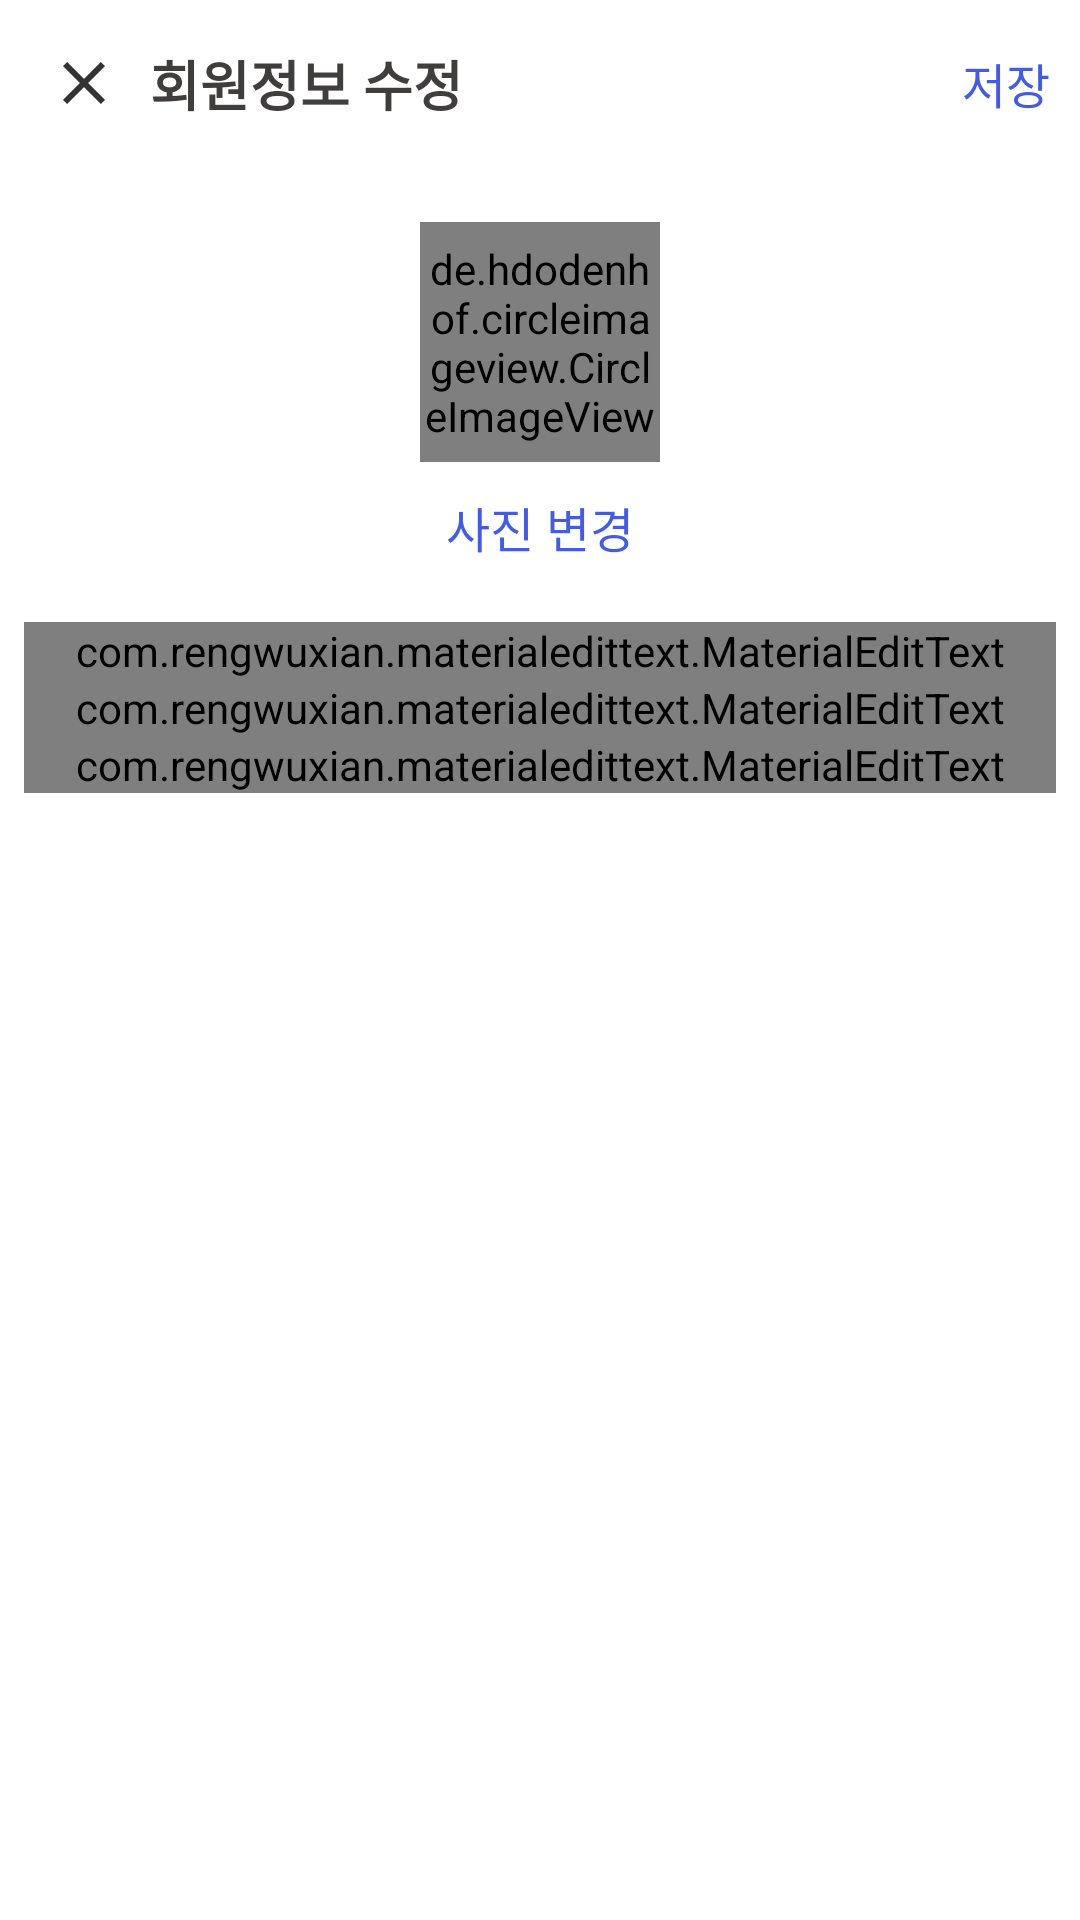

Named icons in this screenshot (1080*1920) and their bounding boxes, (x1, y1, x2, y2):
close: (63, 62, 105, 104)
